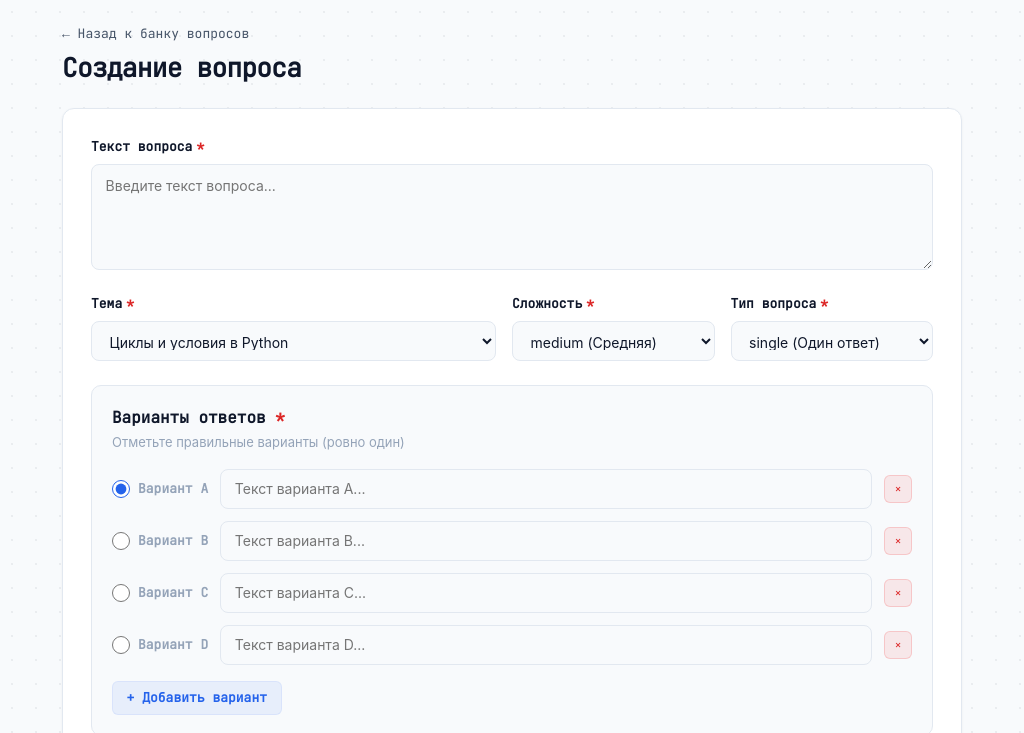
Test: TeacherQuestionFormPage component › allows adding and removing option fields
Click the button "+ Добавить вариант".
click(197, 698)  # box x1=112 y1=681 x2=282 y2=715
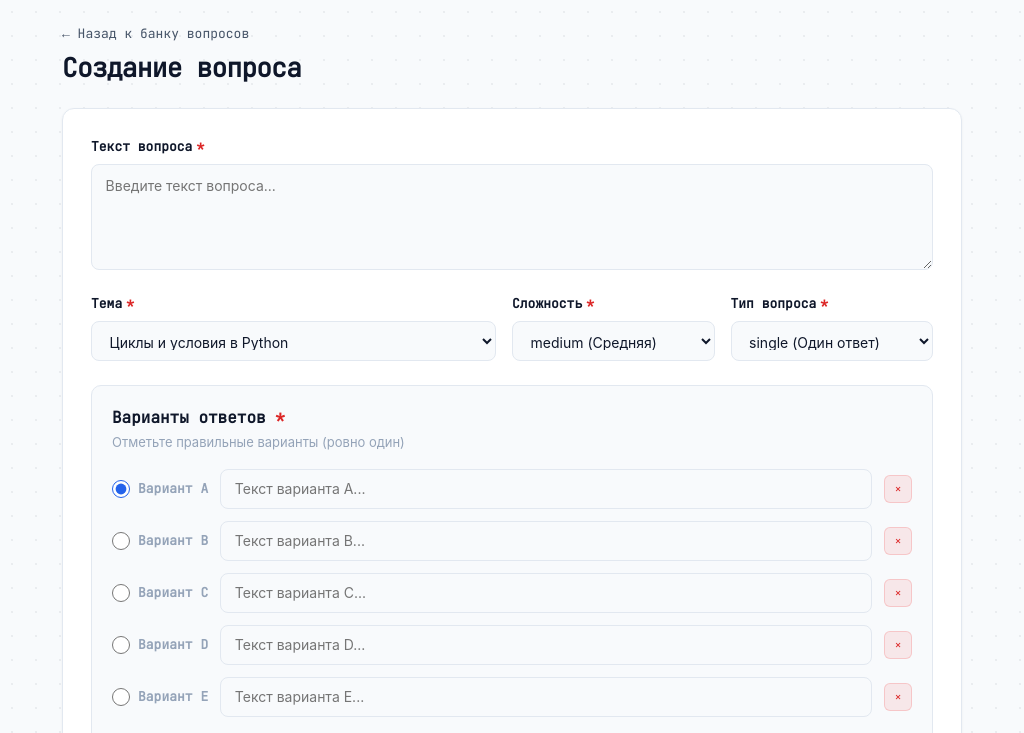
Check: the number of fields with placeholder "Текст варианта A..." is 5, box x1=220 y1=469 x2=872 y2=509; x1=220 y1=521 x2=872 y2=561; x1=220 y1=573 x2=872 y2=613; x1=220 y1=625 x2=872 y2=665; x1=220 y1=677 x2=872 y2=717
